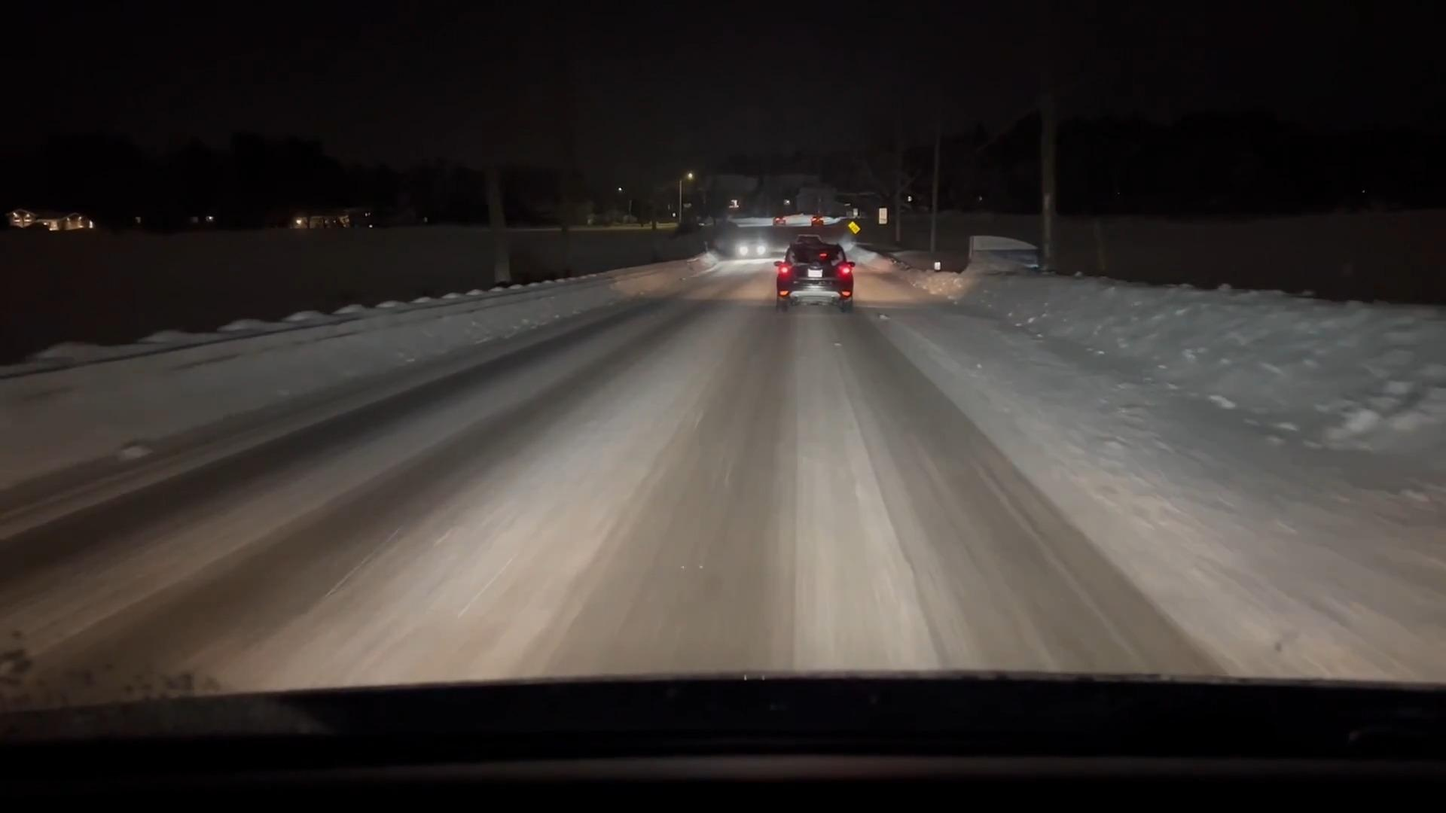Snow: (0, 252, 1446, 698)
